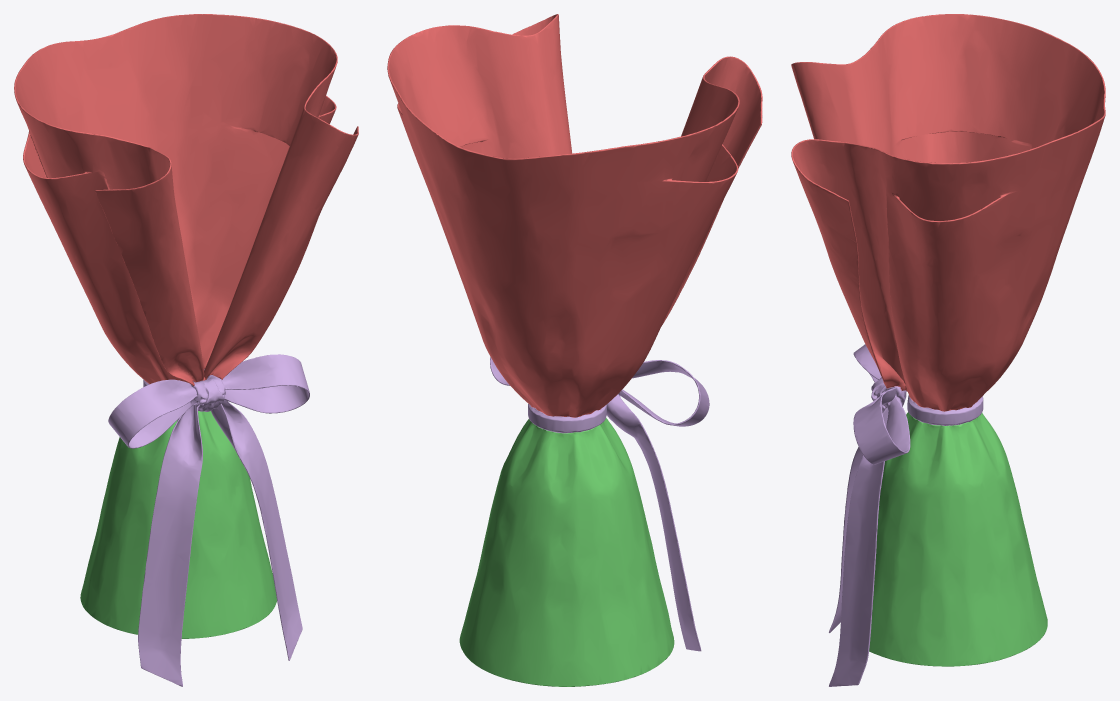
Rendered from bouquet_segment.glb.
The picture shows the model from 3 angles, left to right: view 1: azimuth 30°, elevation 25°; view 2: azimuth 150°, elevation 25°; view 3: azimuth 270°, elevation 25°; orthographic projection. The views are drawn at different scales.
Visible parts, largest first — view 1: model_part0, model_part1, model_part2; view 2: model_part0, model_part2, model_part1, model_part5; view 3: model_part0, model_part2, model_part1, model_part5.
Boxes of the visible parts, <box> form: model_part0: <box>14,14,358,386</box>; model_part1: <box>108,354,309,686</box>; model_part2: <box>80,411,276,638</box>; model_part0: <box>387,14,762,417</box>; model_part2: <box>459,418,674,686</box>; model_part1: <box>490,357,709,651</box>; model_part5: <box>528,404,606,433</box>; model_part0: <box>791,14,1105,411</box>; model_part2: <box>869,412,1047,666</box>; model_part1: <box>829,344,910,686</box>; model_part5: <box>907,395,983,425</box>.
Bounding box in the file's own units: 1.04 × 1.83 × 0.9141.
